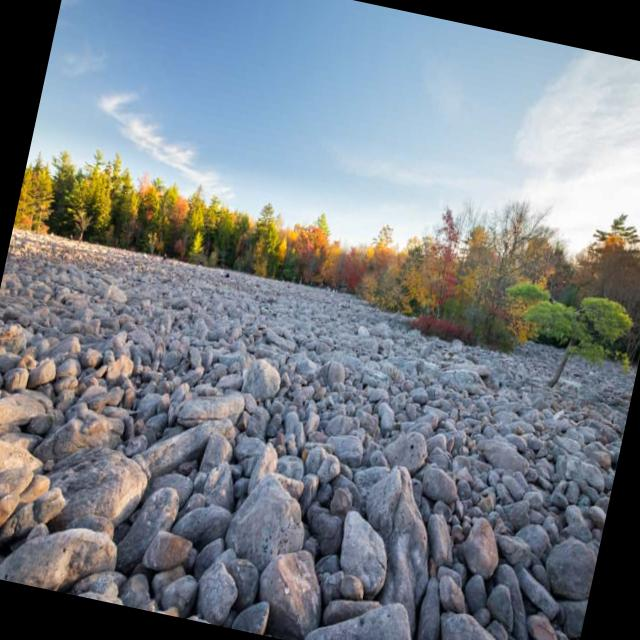rocks: (0, 229, 636, 640)
